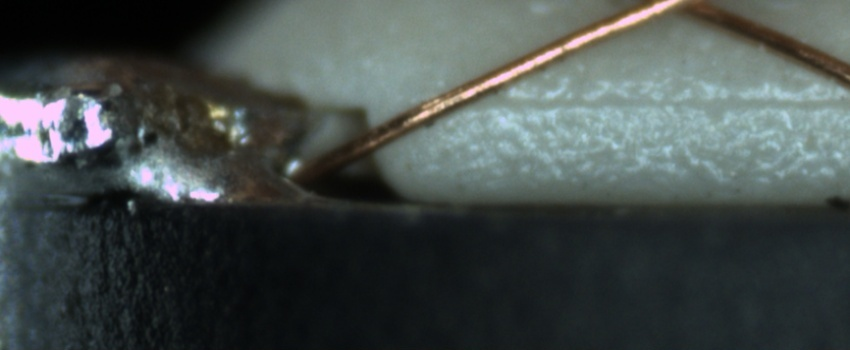CL: (628, 0, 723, 22)
DL: (494, 73, 850, 134)
